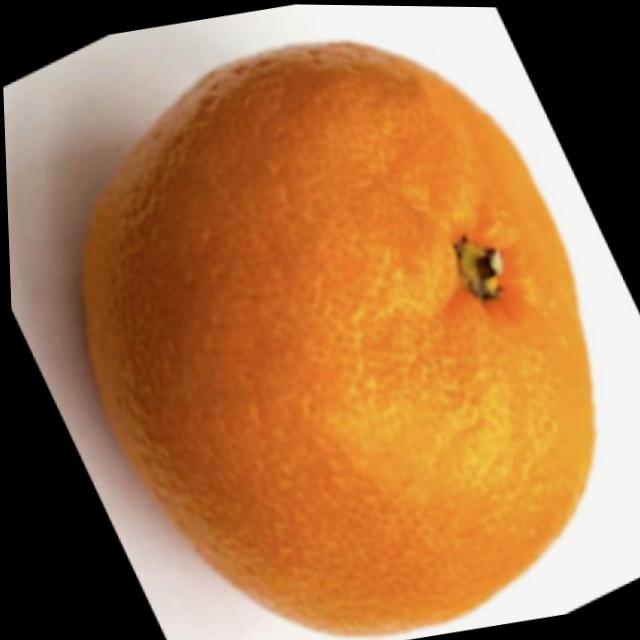Orange: (26, 0, 640, 640)
